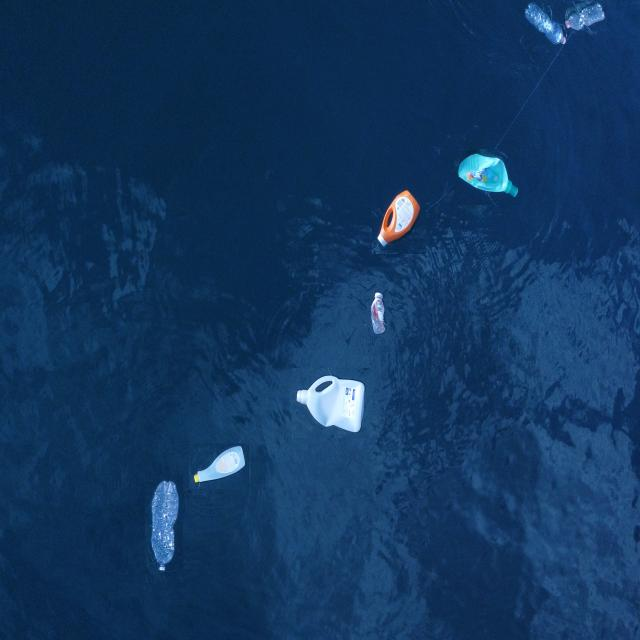bottles: (292, 368, 370, 438), (145, 475, 183, 583), (372, 182, 426, 254), (454, 149, 522, 205), (189, 443, 249, 489), (524, 0, 567, 45), (366, 281, 388, 346), (566, 1, 608, 31)
